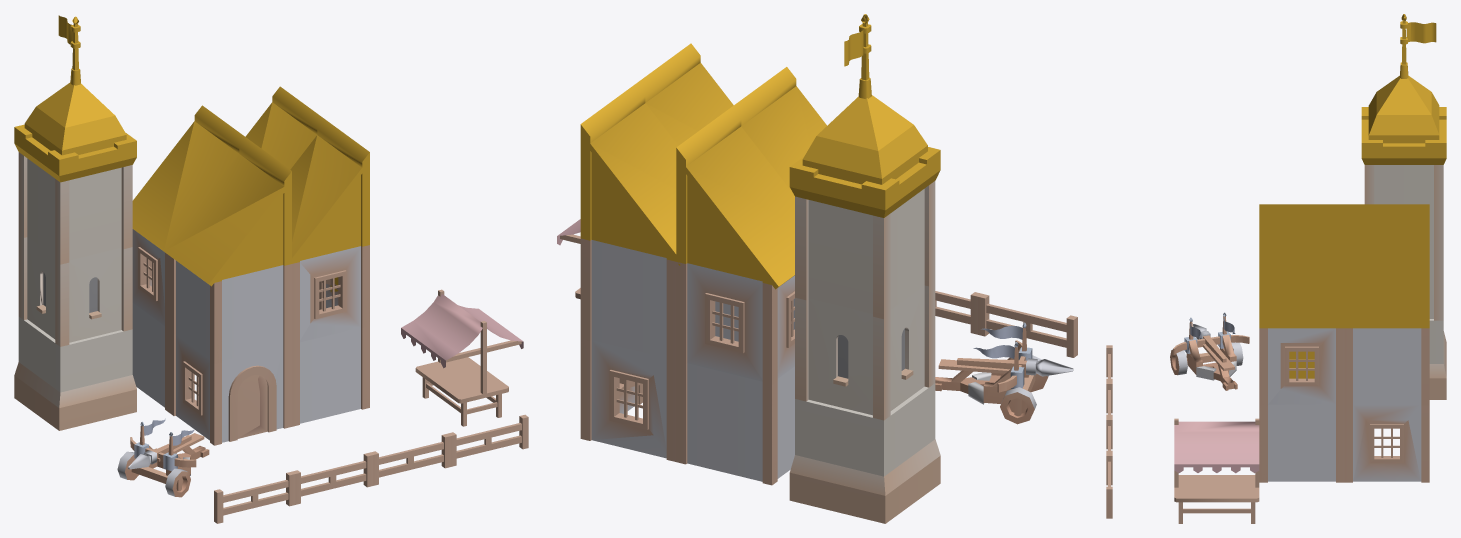
Rendered from barracks_l3.glb.
3 views of the same model, side by side, from view 1: azimuth 30°, elevation 25°; view 2: azimuth 150°, elevation 25°; view 3: azimuth 270°, elevation 25° (orthographic). The views are drawn at different scales.
Parts seen in each view (by area): view 1: barracks_l3; view 2: barracks_l3; view 3: barracks_l3.
Part boxes in pixels (x1=…): barracks_l3: x1=14, y1=15, x2=528, y2=523; barracks_l3: x1=557, y1=14, x2=1077, y2=523; barracks_l3: x1=1106, y1=14, x2=1446, y2=523.
Bounding box in the file's own units: 7.9 × 7.61 × 6.39.
